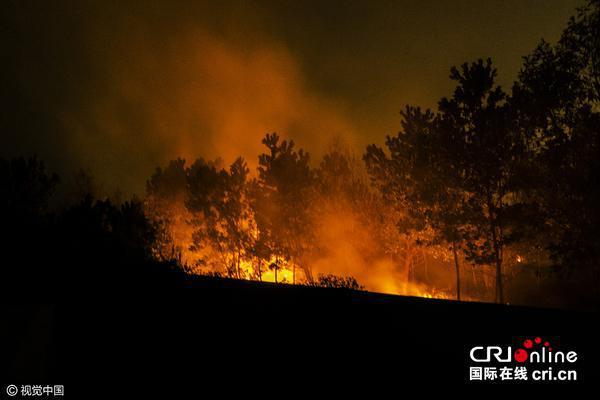fire: (185, 223, 460, 301)
